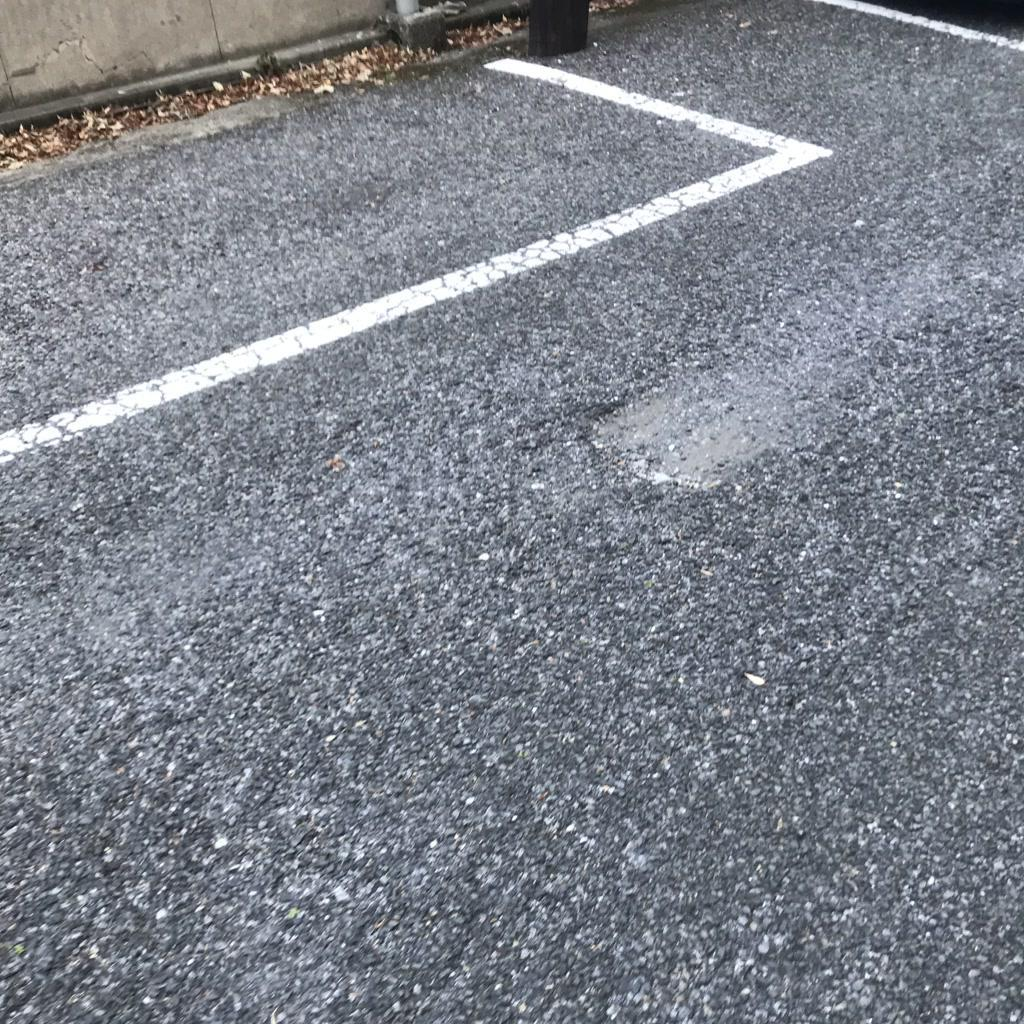D40: (565, 363, 817, 501)
